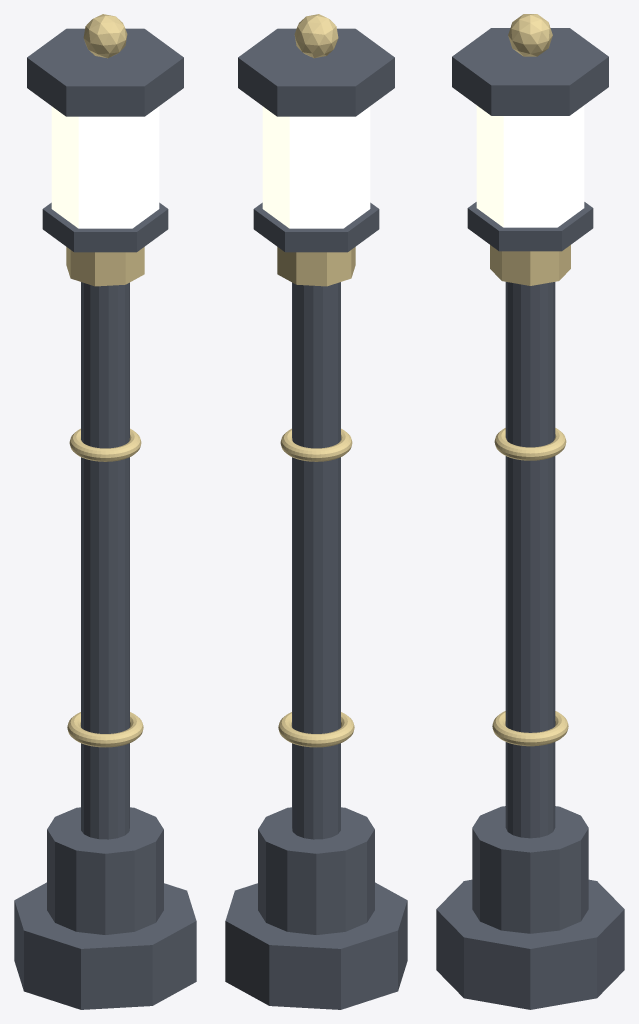
The model's file is lamp.glb.
The picture shows the model from 3 angles, left to right: view 1: azimuth 30°, elevation 25°; view 2: azimuth 150°, elevation 25°; view 3: azimuth 270°, elevation 25°; orthographic projection.
Visible parts, largest first — view 1: Cylinder.002, Cylinder, Cylinder.001, Cylinder.005, Cylinder.006, Cylinder.004, Cylinder.003, Icosphere, Torus, Torus.001; view 2: Cylinder.002, Cylinder, Cylinder.001, Cylinder.005, Cylinder.006, Cylinder.004, Cylinder.003, Icosphere, Torus, Torus.001; view 3: Cylinder.002, Cylinder, Cylinder.001, Cylinder.005, Cylinder.006, Cylinder.004, Cylinder.003, Icosphere, Torus, Torus.001.
Part boxes in pixels (box(x1,y1,x2,y2)): Cylinder.002: box(81, 282, 129, 839); Cylinder: box(14, 882, 196, 1009); Cylinder.001: box(47, 807, 163, 934); Cylinder.005: box(51, 106, 159, 228); Cylinder.006: box(27, 28, 183, 116); Cylinder.004: box(42, 202, 168, 252); Cylinder.003: box(66, 247, 144, 286); Icosphere: box(83, 14, 127, 58); Torus: box(67, 712, 143, 747); Torus.001: box(69, 428, 141, 461); Cylinder.002: box(292, 282, 340, 839); Cylinder: box(225, 882, 407, 1009); Cylinder.001: box(258, 807, 374, 934); Cylinder.005: box(262, 106, 370, 228); Cylinder.006: box(238, 28, 394, 116); Cylinder.004: box(253, 202, 379, 252); Cylinder.003: box(277, 247, 355, 286); Icosphere: box(294, 14, 338, 58); Torus: box(278, 712, 354, 747); Torus.001: box(280, 428, 352, 461); Cylinder.002: box(505, 282, 555, 838); Cylinder: box(436, 879, 624, 1009); Cylinder.001: box(472, 806, 588, 933); Cylinder.005: box(476, 105, 584, 227); Cylinder.006: box(452, 28, 608, 115); Cylinder.004: box(467, 202, 593, 251); Cylinder.003: box(490, 245, 570, 285); Icosphere: box(508, 14, 552, 56); Torus: box(492, 711, 568, 746); Torus.001: box(494, 428, 566, 460).
Size of the model in its own units: 0.84 by 4.7 by 0.84.
